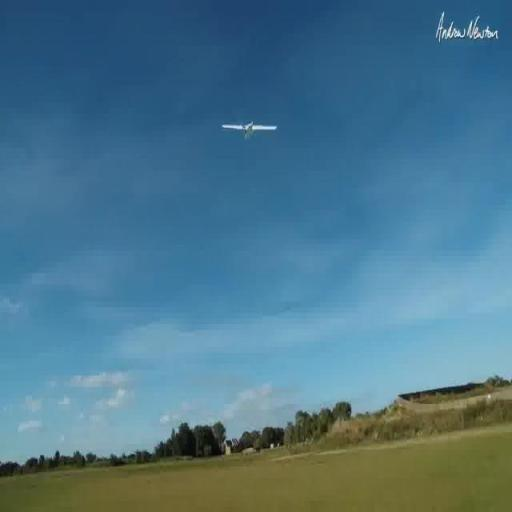uav: (201, 96, 296, 170)
